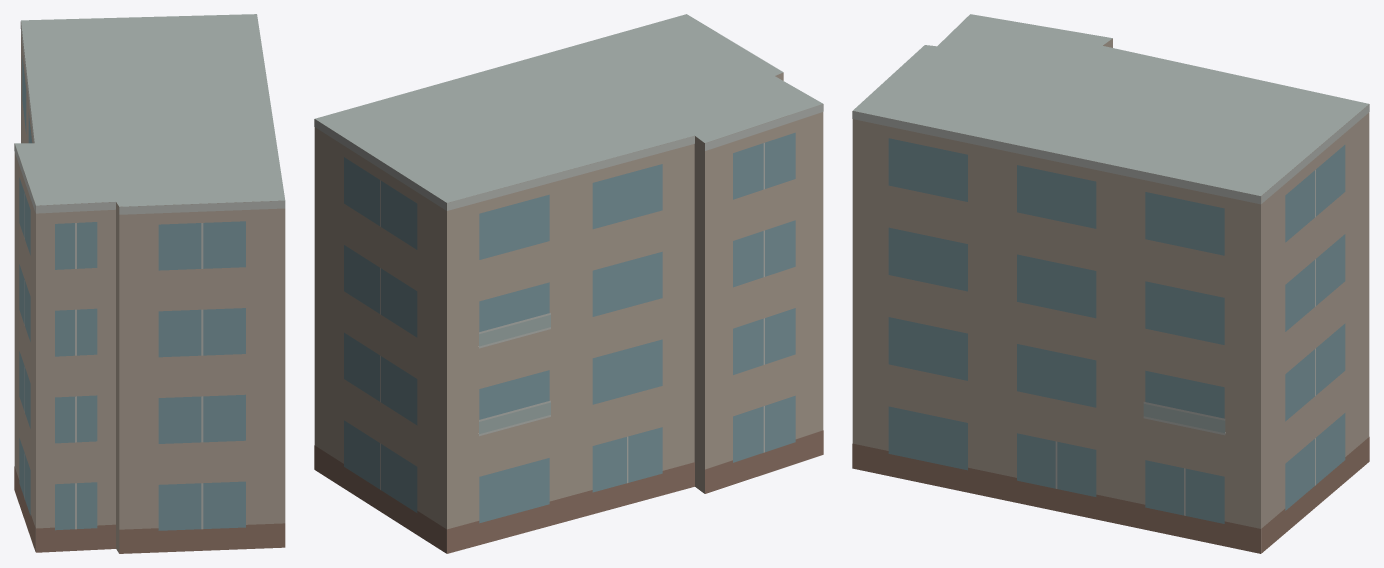
The model's file is survey-upis-32907209.glb.
3 views of the same model, side by side, from view 1: azimuth 30°, elevation 25°; view 2: azimuth 150°, elevation 25°; view 3: azimuth 270°, elevation 25° (orthographic). The views are drawn at different scales.
Visible parts, largest first — view 1: survey-upis-32907209.tmp; view 2: survey-upis-32907209.tmp; view 3: survey-upis-32907209.tmp.
Boxes of the visible parts, x1,y1,x2,y2 form: survey-upis-32907209.tmp: (14,14,285,553); survey-upis-32907209.tmp: (314,14,823,553); survey-upis-32907209.tmp: (852,14,1369,553).
Bounding box in the file's own units: 11.59 × 10.6 × 13.89.
